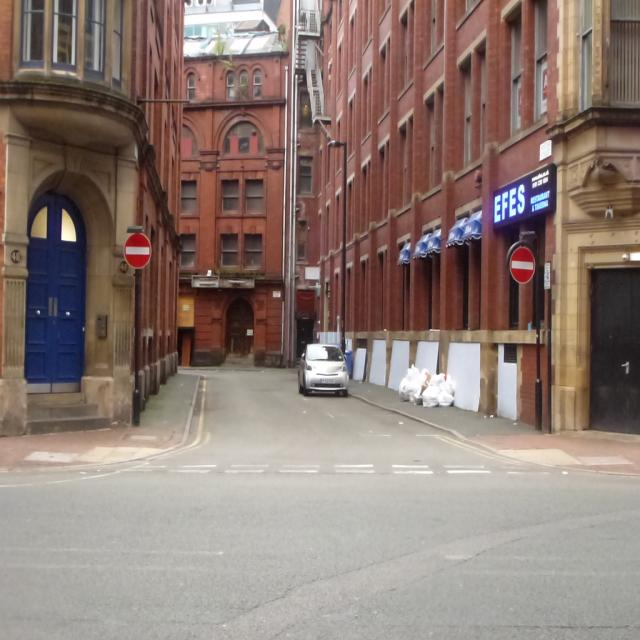car: (299, 331, 353, 400)
